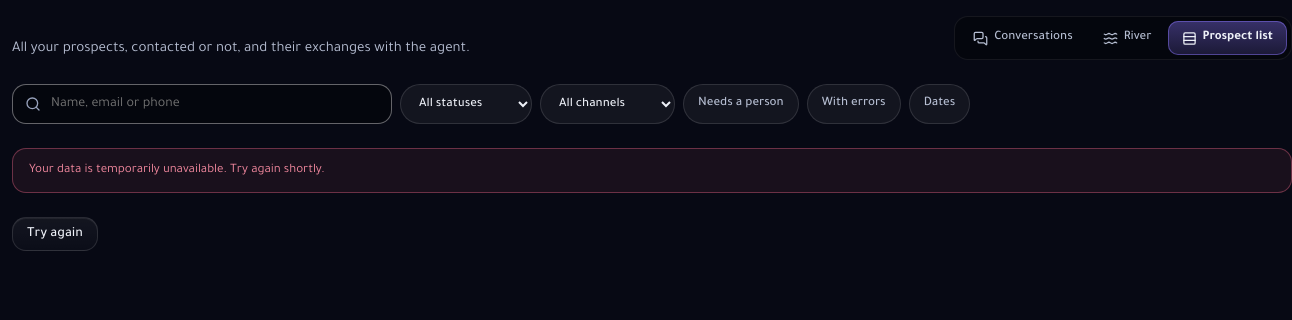
Prospects (live) › shows the error and retries when the server fails
Expected: the message shows "temporarily unavailable", [29, 164, 325, 177]
Click the button "Try again".
click(55, 234)  # box [12, 217, 98, 251]
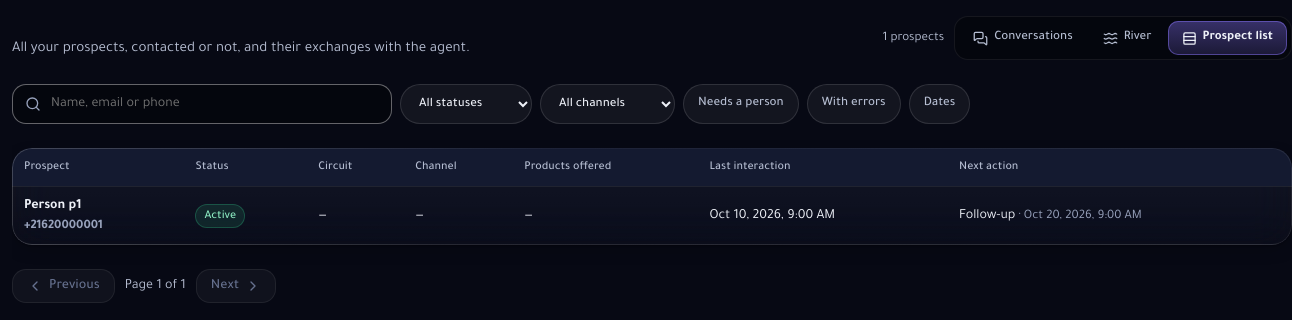
Expected: the row with test id "prospect-p1" is shown, [12, 187, 1291, 245]
